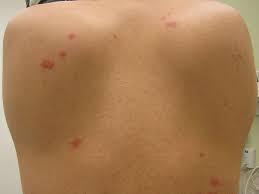Spider: (67, 133, 85, 150), (39, 56, 55, 71), (164, 19, 177, 31), (210, 176, 222, 187), (67, 32, 77, 41), (59, 51, 65, 56)
